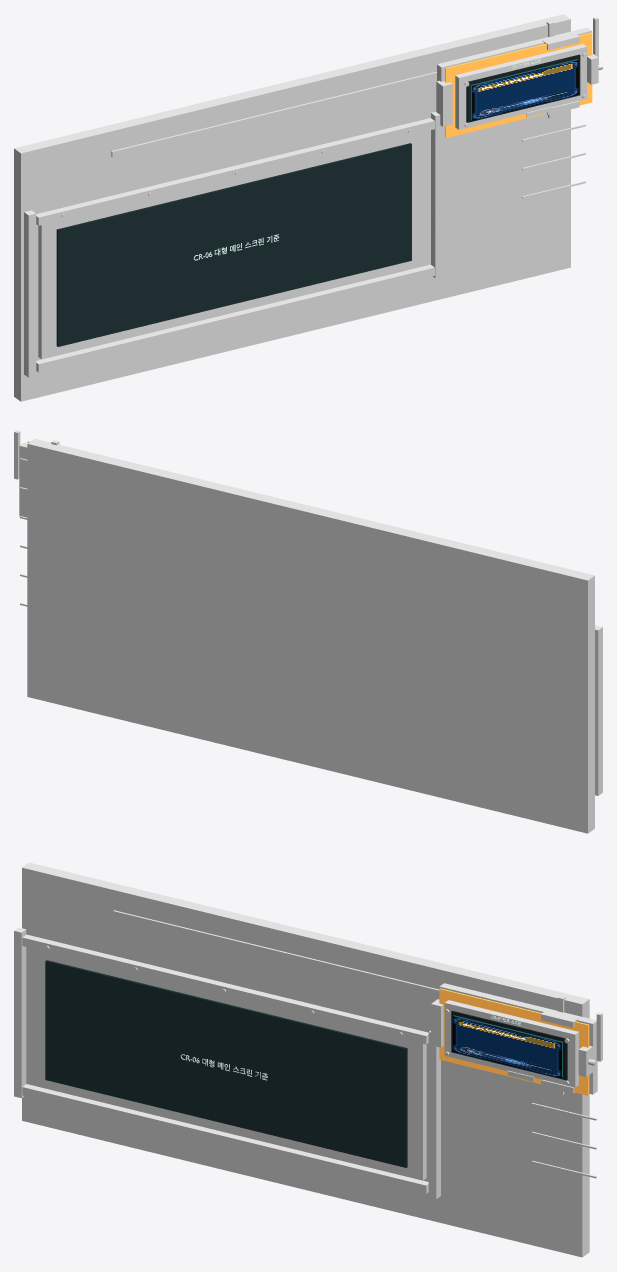
The model's file is control_room_aux_screen.glb.
3 renders of one model, top to bottom at view 1: azimuth 30°, elevation 25°; view 2: azimuth 150°, elevation 25°; view 3: azimuth 330°, elevation 25°, orthographic.
Visible parts, largest first — view 1: control room future screen wall context panel, CR-06 large main screen dark inactive surface, CR-06 large main screen reference mount, main screen lower service sill reference, main screen upper structural lintel reference, CR-07 C2_ElC2Disp full display texture, CR-07 horizontal armored frame, upper control room wall conduit continuing behind CR-07, CR-07 reserved upper right placement zone outline, vertical bay rib framing CR-06 context, vertical bay rib framing CR-06 context.001, CR-07 wall-side mounting pad (+2 smaller); view 2: control room future screen wall context panel, vertical bay rib framing CR-06 context, CR-07 wall-side mounting pad; view 3: control room future screen wall context panel, CR-06 large main screen dark inactive surface, CR-06 large main screen reference mount, main screen lower service sill reference, main screen upper structural lintel reference, CR-07 C2_ElC2Disp full display texture, CR-07 horizontal armored frame, upper control room wall conduit continuing behind CR-07, CR-07 reserved upper right placement zone outline, vertical bay rib framing CR-06 context, vertical bay rib framing CR-06 context.001, CR-07 wall-side mounting pad (+2 smaller).
Boxes of the visible parts, x1,y1,x2,y2 form: control room future screen wall context panel: [14, 14, 570, 401]; CR-06 large main screen dark inactive surface: [56, 143, 411, 346]; CR-06 large main screen reference mount: [38, 132, 421, 359]; main screen lower service sill reference: [36, 264, 434, 372]; main screen upper structural lintel reference: [36, 118, 434, 225]; CR-07 C2_ElC2Disp full display texture: [472, 60, 578, 120]; CR-07 horizontal armored frame: [455, 44, 586, 129]; upper control room wall conduit continuing behind CR-07: [111, 71, 436, 157]; CR-07 reserved upper right placement zone outline: [445, 32, 592, 137]; vertical bay rib framing CR-06 context: [24, 210, 36, 377]; vertical bay rib framing CR-06 context.001: [431, 111, 442, 278]; CR-07 wall-side mounting pad: [437, 27, 591, 136]; control room future screen wall context panel: [27, 438, 594, 833]; vertical bay rib framing CR-06 context: [595, 625, 602, 795]; CR-07 wall-side mounting pad: [19, 442, 27, 517]; control room future screen wall context panel: [22, 862, 589, 1257]; CR-06 large main screen dark inactive surface: [45, 960, 407, 1167]; CR-06 large main screen reference mount: [36, 949, 426, 1180]; main screen lower service sill reference: [22, 1084, 428, 1193]; main screen upper structural lintel reference: [22, 934, 428, 1044]; CR-07 C2_ElC2Disp full display texture: [452, 1016, 561, 1077]; CR-07 horizontal armored frame: [444, 1000, 578, 1087]; upper control room wall conduit continuing behind CR-07: [113, 910, 439, 995]; CR-07 reserved upper right placement zone outline: [439, 988, 589, 1095]; vertical bay rib framing CR-06 context: [14, 927, 26, 1097]; vertical bay rib framing CR-06 context.001: [428, 1030, 440, 1199]; CR-07 wall-side mounting pad: [439, 983, 597, 1094].
Size of the model in its own units: 7.61 by 3.18 by 0.514.
18 materials, 1 textured.
